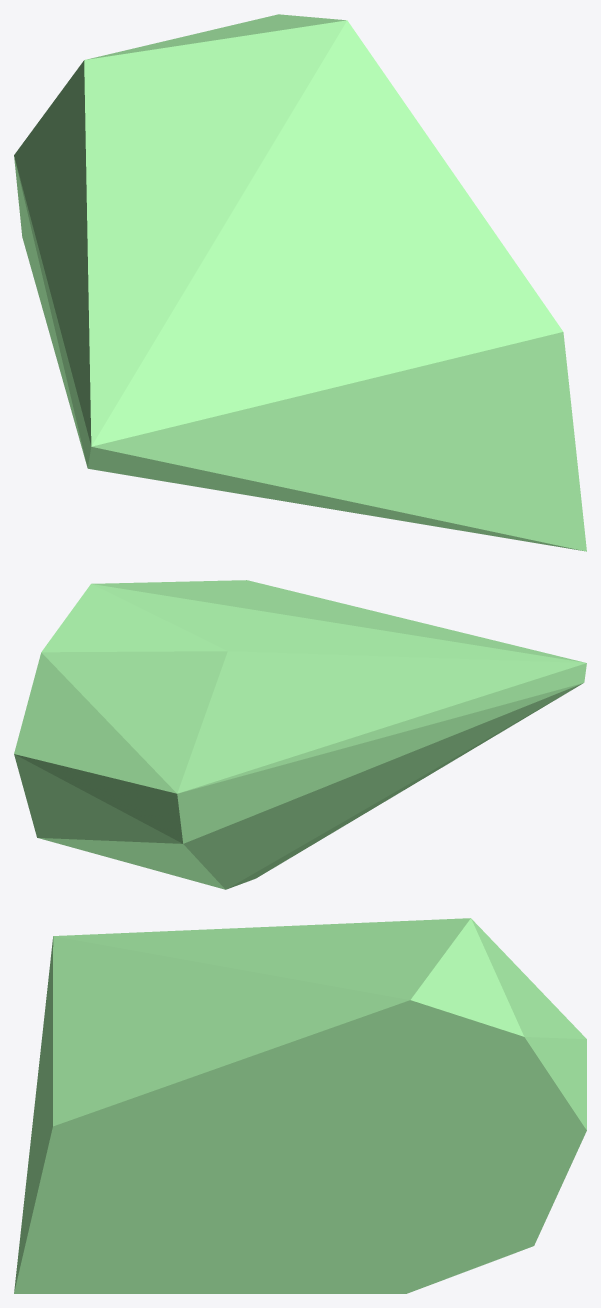
Rendered from dxxx_Lp21_respondable_PSM1_coll_3.dae.
3 renders of one model, top to bottom at view 1: azimuth 30°, elevation 25°; view 2: azimuth 150°, elevation 25°; view 3: azimuth 270°, elevation 25°, orthographic. The views are drawn at different scales.
Parts seen in each view (by area): view 1: Node_000001D818CBBB90; view 2: Node_000001D818CBBB90; view 3: Node_000001D818CBBB90.
Part boxes in pixels (bbox=[...]): Node_000001D818CBBB90: bbox=[14, 14, 586, 551]; Node_000001D818CBBB90: bbox=[14, 580, 586, 889]; Node_000001D818CBBB90: bbox=[14, 918, 586, 1293].
Size of the model in its own units: 0.025 by 0.018 by 0.0318.
